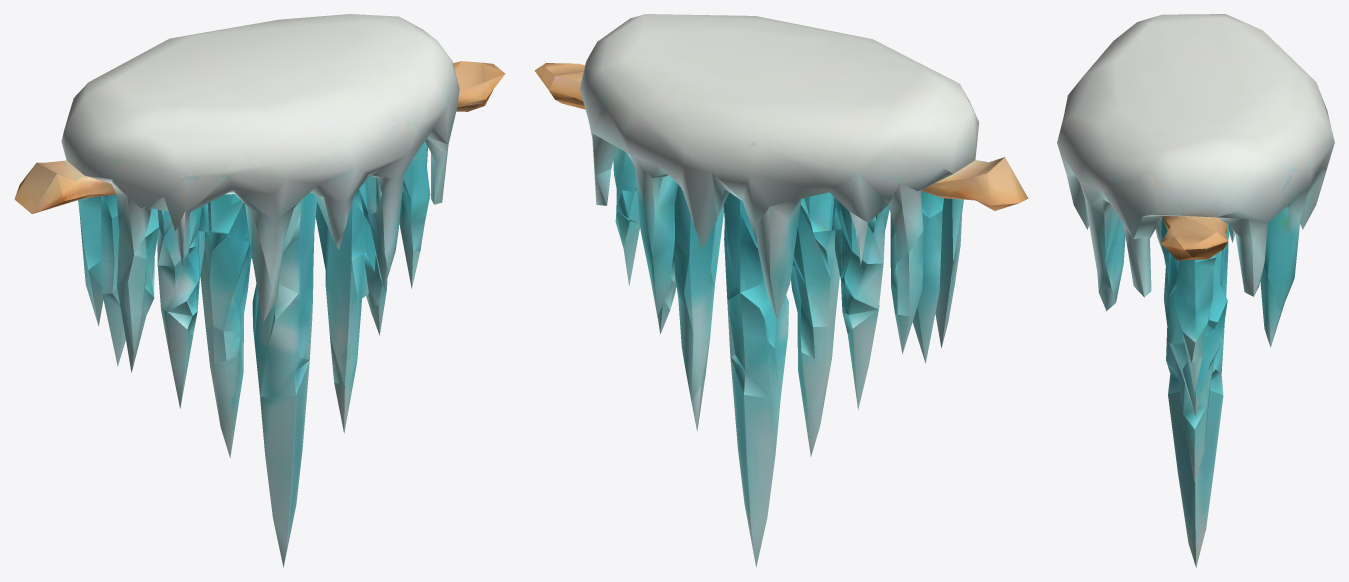
Rendered from m2Icicle.glb.
3 views of the same model, side by side, from view 1: azimuth 30°, elevation 25°; view 2: azimuth 150°, elevation 25°; view 3: azimuth 270°, elevation 25° (orthographic). The views are drawn at different scales.
Parts seen in each view (by area): view 1: model; view 2: model; view 3: model.
Part boxes in pixels (bbox=[...]): model: bbox=[14, 14, 505, 567]; model: bbox=[534, 14, 1028, 566]; model: bbox=[1057, 14, 1334, 567].
Size of the model in its own units: 1.87 by 1.91 by 1.
Materials: 1 (1 with a texture image).
